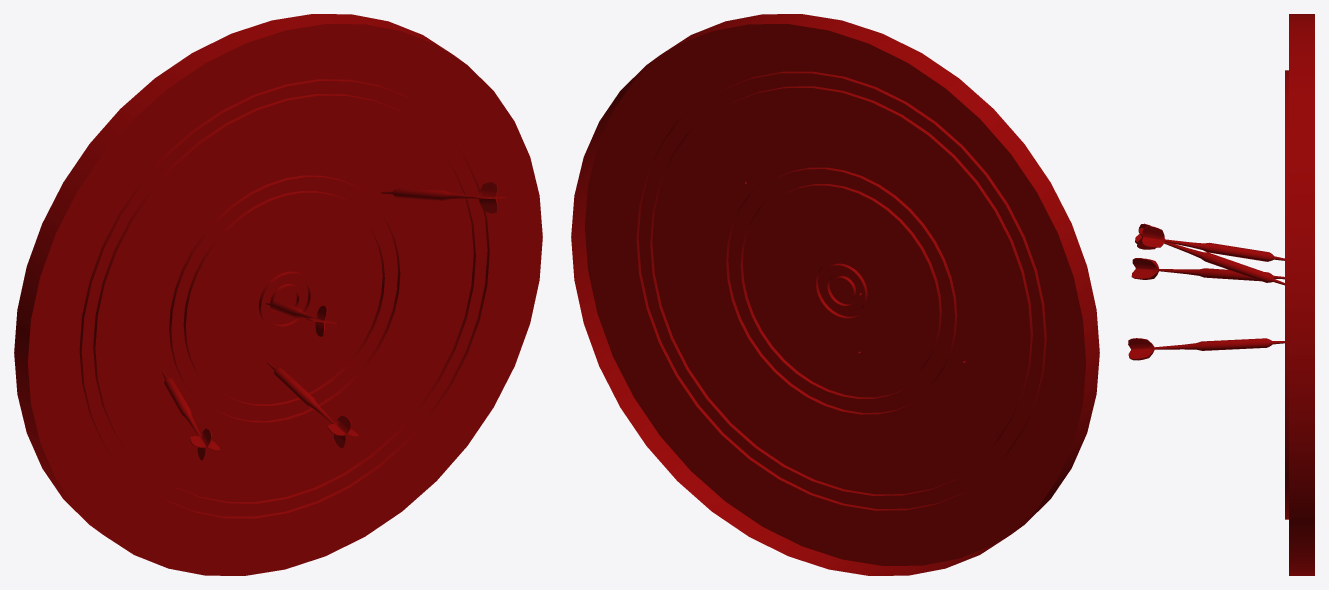
File: Flechettes.FBX
3 renders of one model, left to right at view 1: azimuth 30°, elevation 25°; view 2: azimuth 150°, elevation 25°; view 3: azimuth 270°, elevation 25°, orthographic. The views are drawn at different scales.
Parts seen in each view (by area): view 1: flechettes; view 2: flechettes; view 3: flechettes.
Part boxes in pixels (<box>): flechettes: <box>14,14,542,575</box>; flechettes: <box>571,14,1099,575</box>; flechettes: <box>1128,14,1314,575</box>.
Size of the model in its own units: 0.555 by 0.1843 by 0.555.
